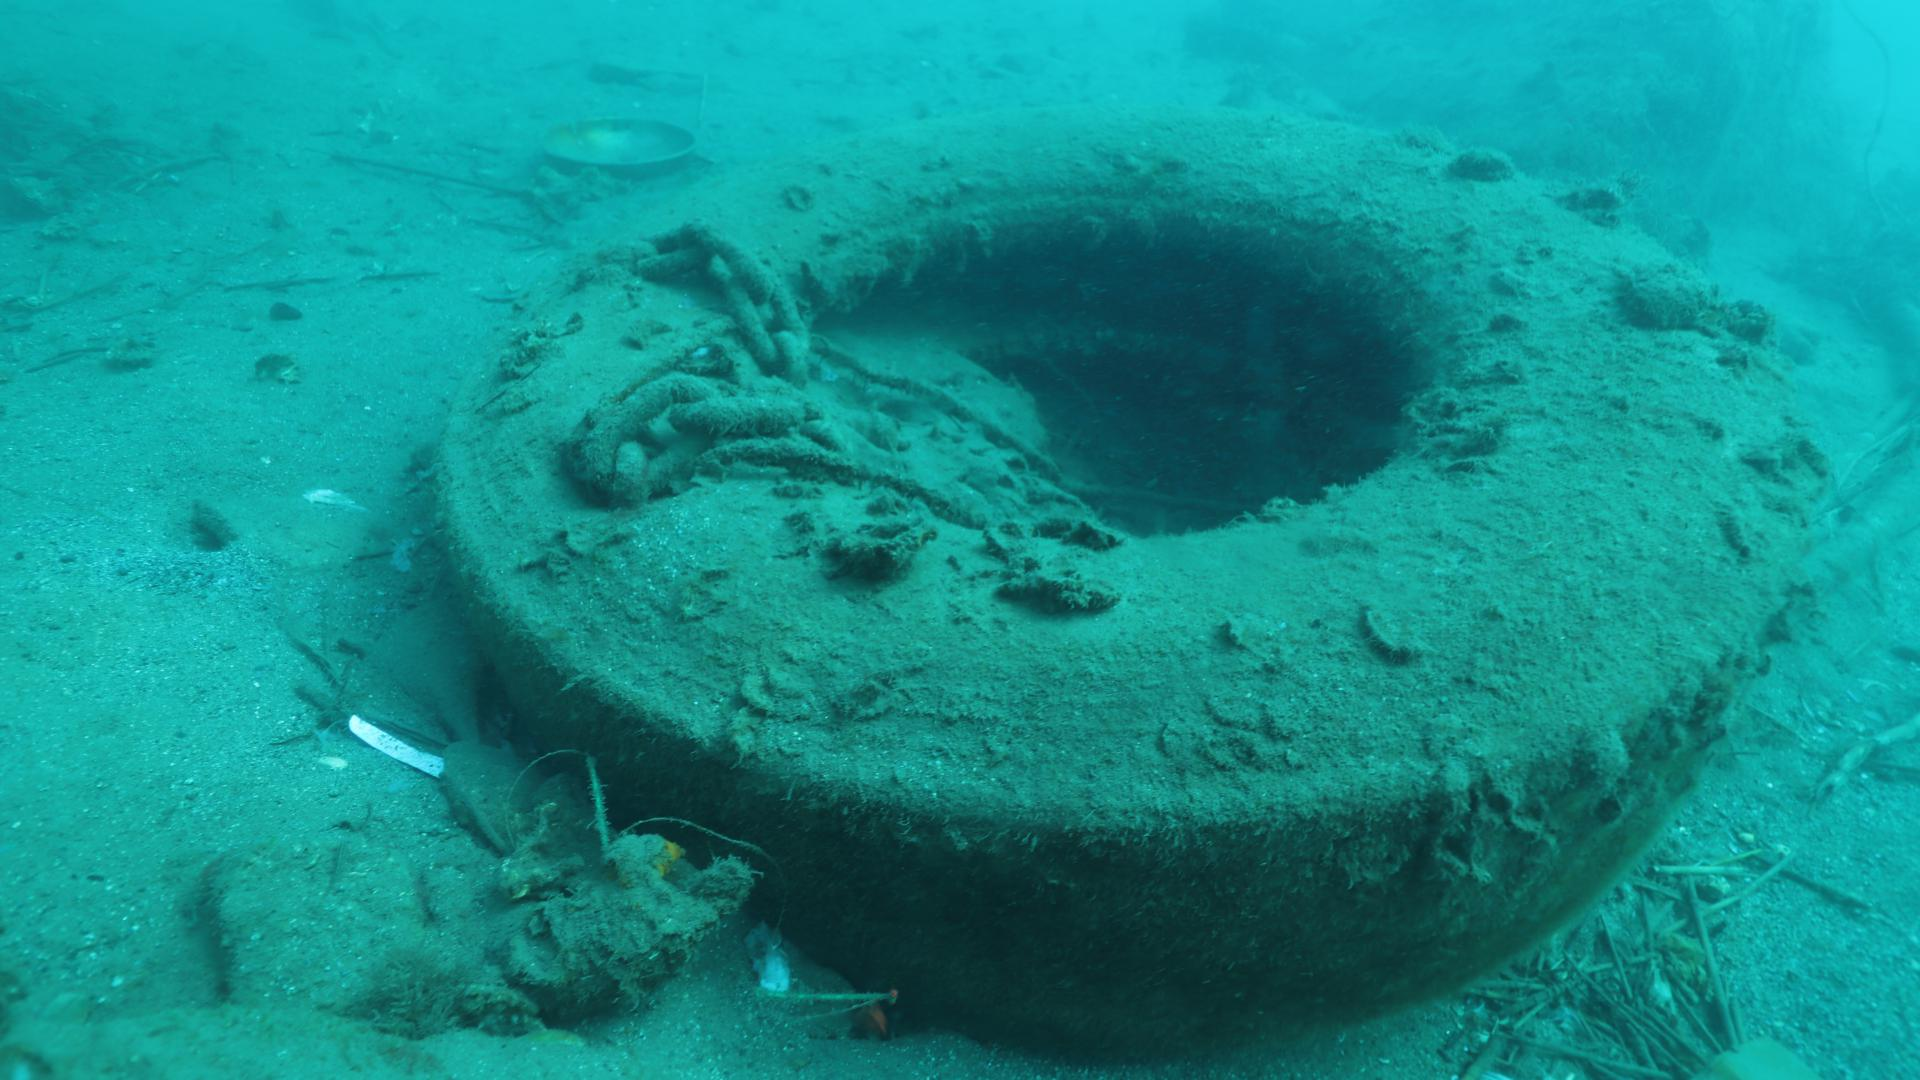tire: (435, 98, 1811, 1064)
